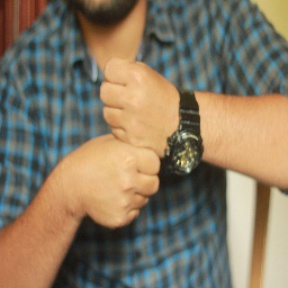G: (80, 55, 176, 229)
